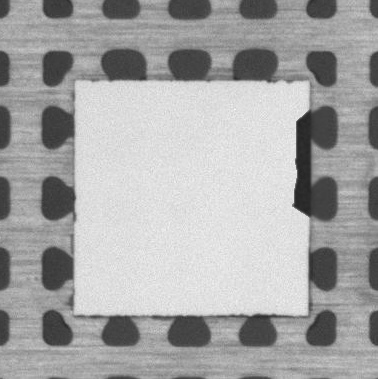DIE_BROKEN: (291, 112, 313, 221)
